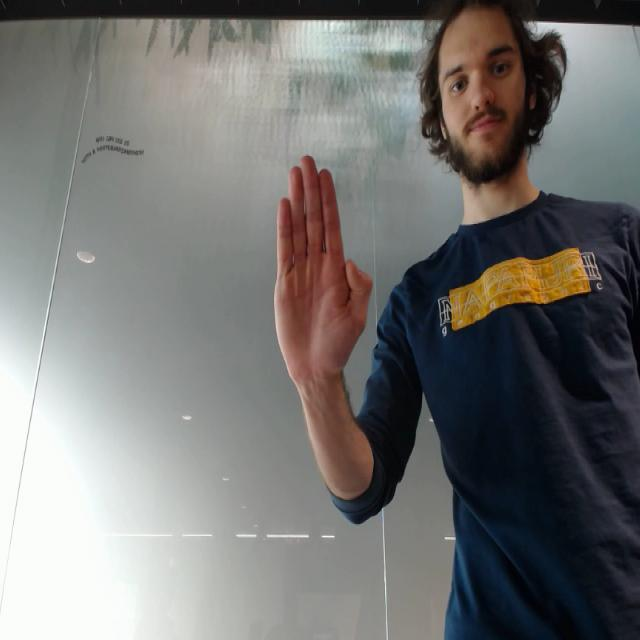backward: (272, 152, 378, 388)
